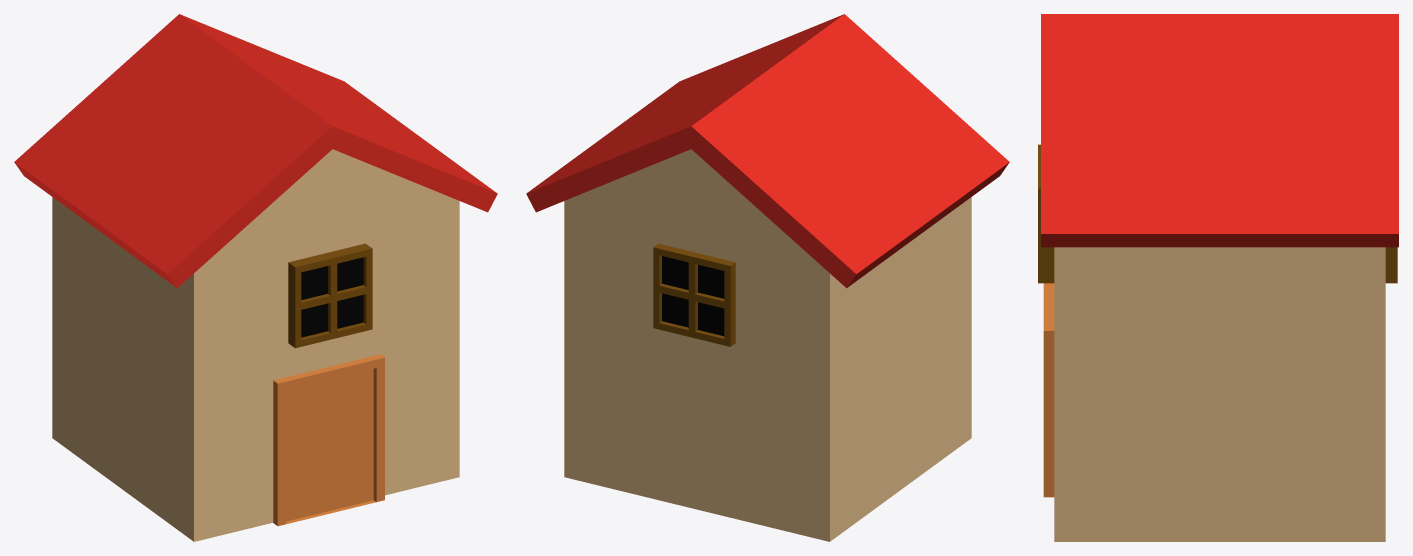
Rendered from House1.fbx.
The picture shows the model from 3 angles, left to right: view 1: azimuth 30°, elevation 25°; view 2: azimuth 150°, elevation 25°; view 3: azimuth 270°, elevation 25°; orthographic projection. The views are drawn at different scales.
Parts seen in each view (by area): view 1: House, Cube, Cube.001; view 2: House, Cube.002; view 3: House, Cube, Cube.001, Cube.002.
Part boxes in pixels (left/top/right/bottom): House: left=14, top=14, right=497, bottom=541; Cube: left=273, top=354, right=384, bottom=526; Cube.001: left=288, top=243, right=372, bottom=348; House: left=526, top=14, right=1009, bottom=541; Cube.002: left=653, top=243, right=735, bottom=346; House: left=1041, top=14, right=1398, bottom=541; Cube: left=1043, top=283, right=1054, bottom=497; Cube.001: left=1038, top=144, right=1054, bottom=283; Cube.002: left=1385, top=247, right=1397, bottom=283.
Size of the model in its own units: 249 by 279 by 202.
